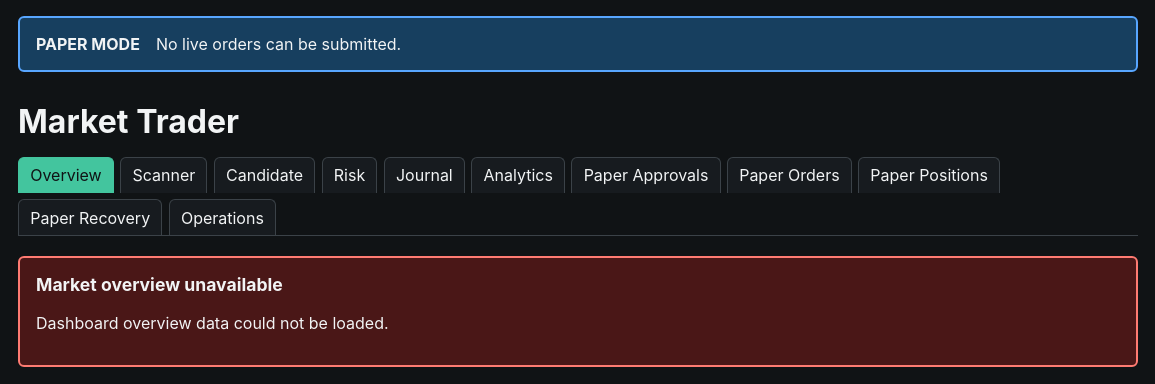
it: includes paper order, position, and recovery tabs
Click the tab "Paper Orders". click: [789, 175]
box: [727,157,852,193]
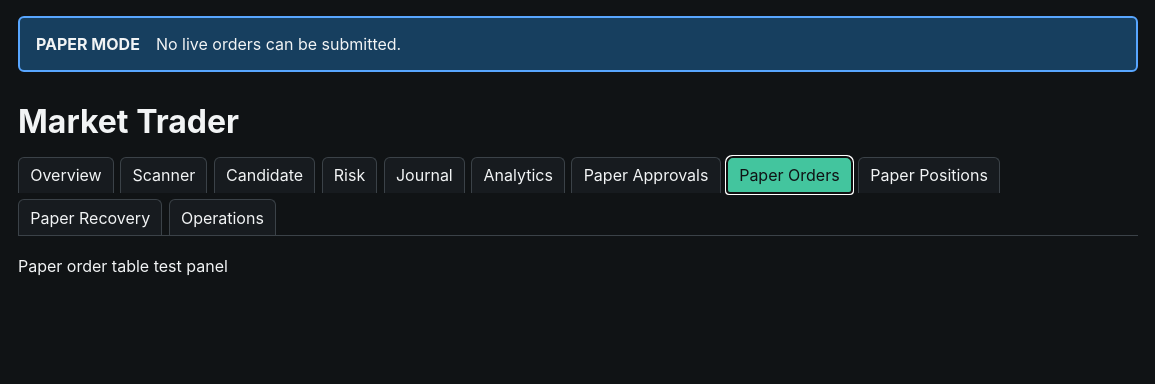
Check: the panel named "Paper Orders" reads "Paper order table test panel", box [18,256,228,276]
Click the tab "Paper Positions". click: [929, 175]
box: [858,157,1000,193]
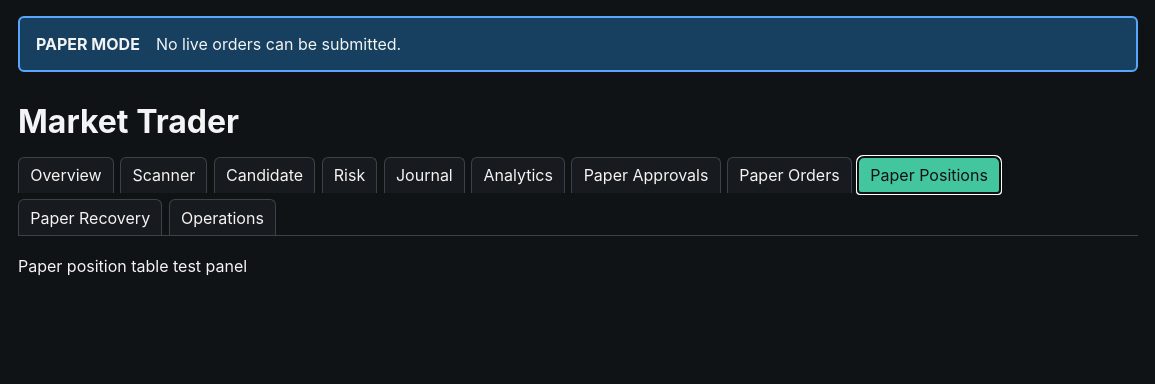
Check: the panel named "Paper Positions" reads "Paper position table test panel", box [18,256,247,276]
Click the tab "Paper Recovery". click: [90, 217]
box: [18,199,162,235]
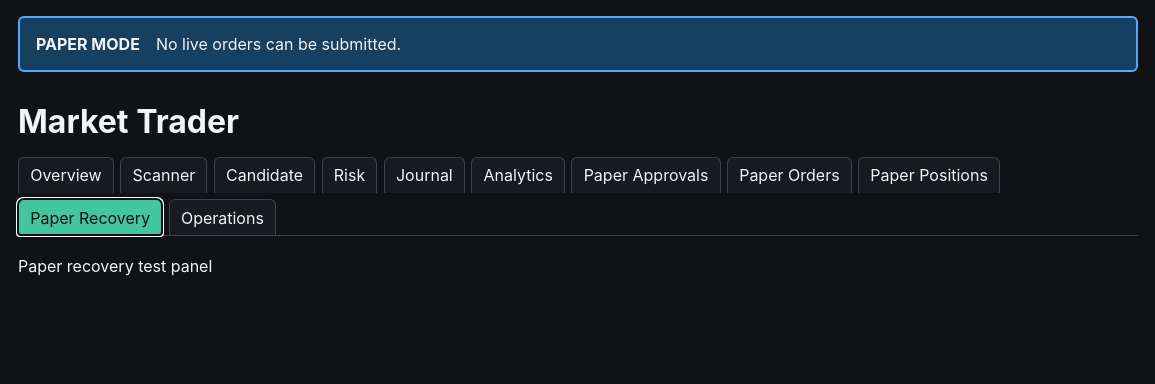
Check: the panel "Paper recovery" reads "Paper recovery test panel", box [18,256,212,276]
